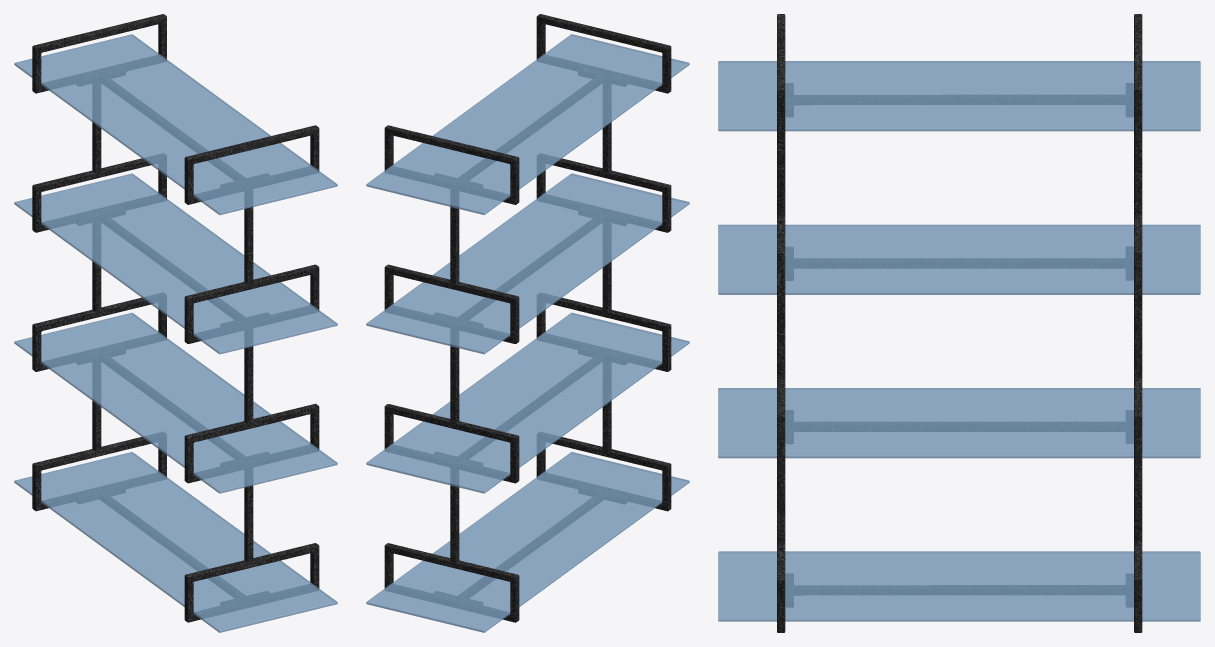
File: Shelf N031221.obj
3 views of the same model, side by side, from view 1: azimuth 30°, elevation 25°; view 2: azimuth 150°, elevation 25°; view 3: azimuth 270°, elevation 25° (orthographic). The views are drawn at different scales.
Parts seen in each view (by area): view 1: steklo, karkas; view 2: steklo, karkas; view 3: steklo, karkas.
Boxes of the visible parts, <box> form: steklo: <box>14,34,337,632</box>; karkas: <box>32,14,319,622</box>; steklo: <box>366,34,689,632</box>; karkas: <box>384,14,671,622</box>; steklo: <box>718,61,1200,621</box>; karkas: <box>777,14,1142,632</box>.
Bounding box in the file's own units: 3003 × 10092 × 8100.
